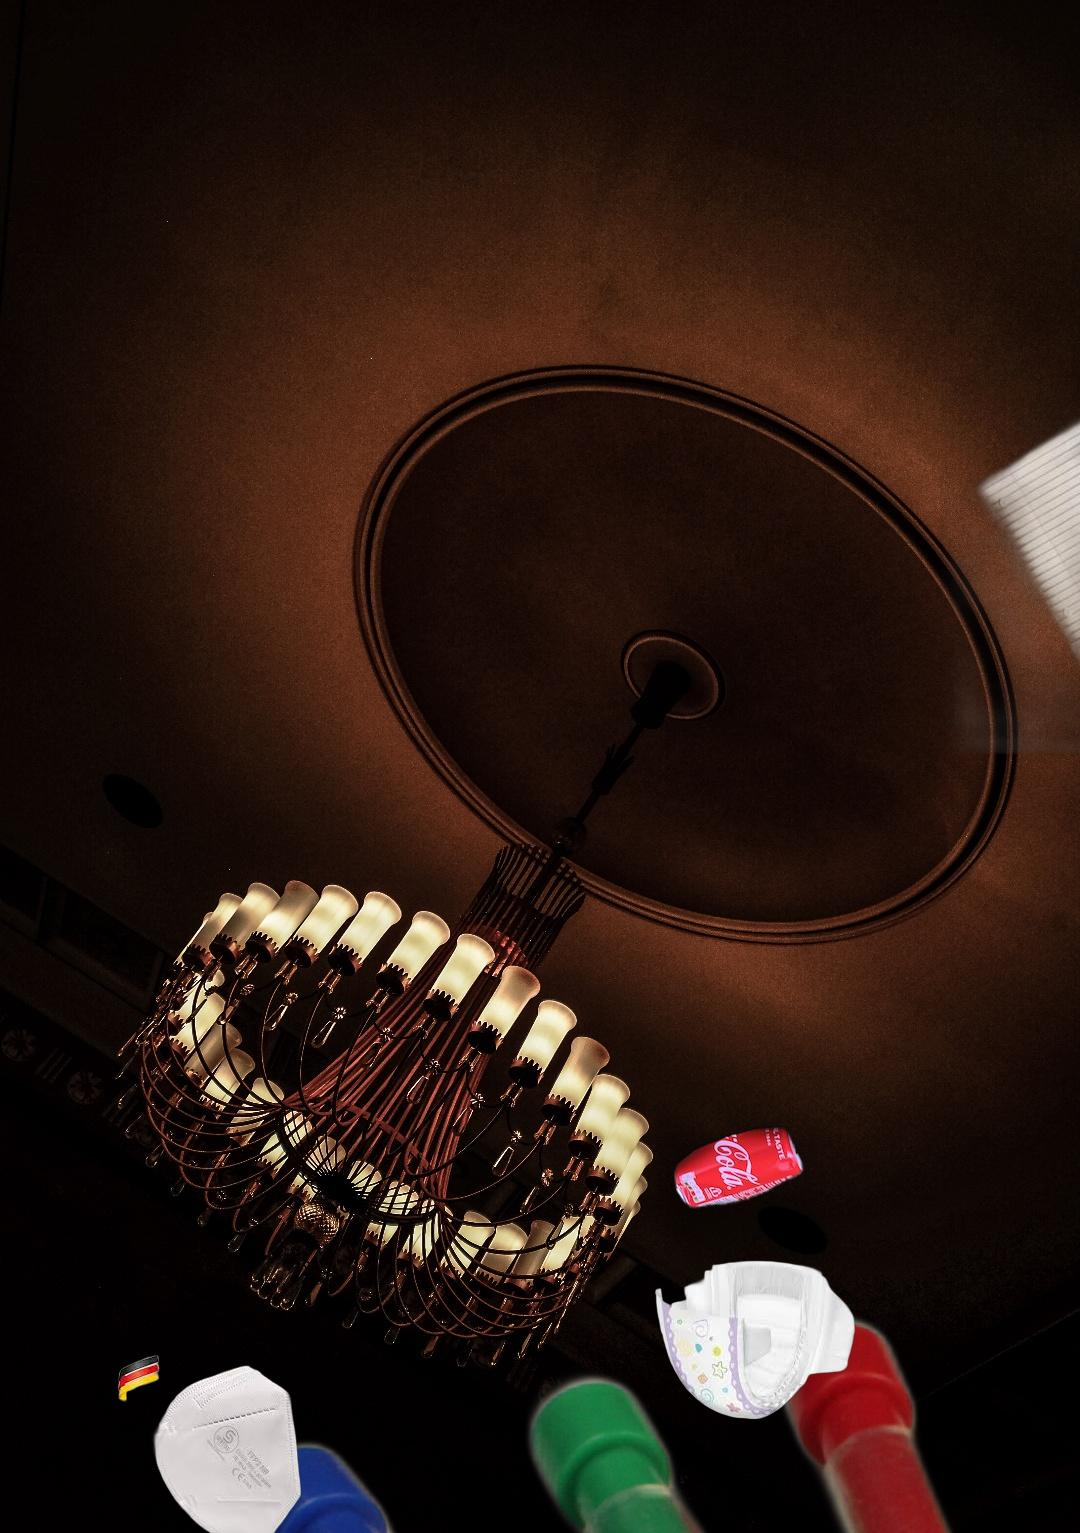metal-cans: (669, 1121, 809, 1214)
paper: (940, 370, 1080, 754)
penholder: (219, 1264, 1080, 1533)
trash: (652, 1258, 873, 1422), (115, 1352, 304, 1533)
